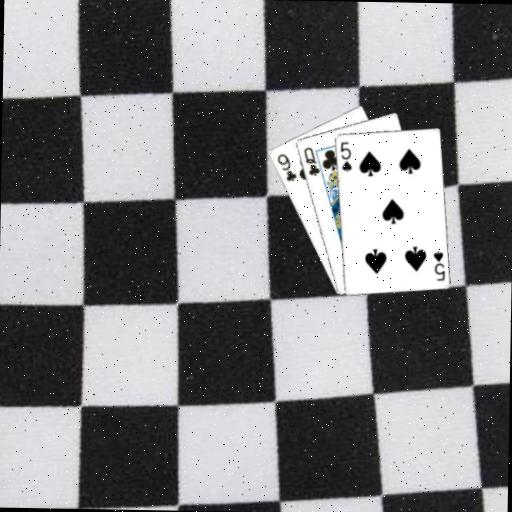5S: (337, 138, 354, 173), (430, 247, 447, 282)
9C: (274, 151, 299, 183)
QC: (300, 144, 321, 178)
